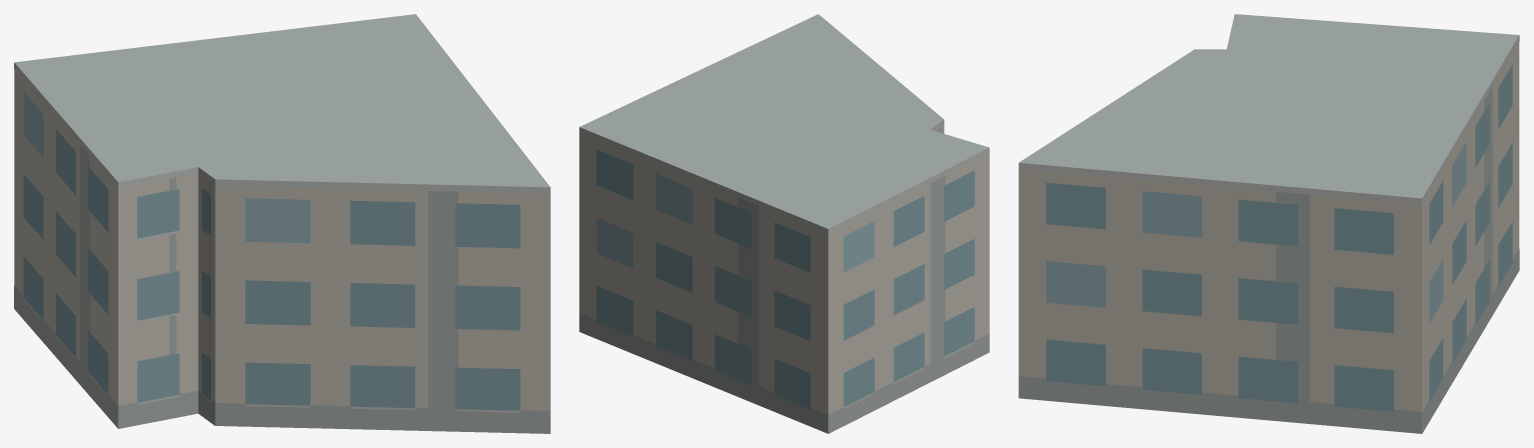
File: survey-upis-32994948.glb
3 views of the same model, side by side, from view 1: azimuth 30°, elevation 25°; view 2: azimuth 150°, elevation 25°; view 3: azimuth 270°, elevation 25° (orthographic). The views are drawn at different scales.
Visible parts, largest first — view 1: survey-upis-32994948.tmp; view 2: survey-upis-32994948.tmp; view 3: survey-upis-32994948.tmp.
Part boxes in pixels (left/top/right/bottom): survey-upis-32994948.tmp: left=14, top=14, right=550, bottom=433; survey-upis-32994948.tmp: left=579, top=14, right=989, bottom=433; survey-upis-32994948.tmp: left=1018, top=14, right=1519, bottom=433.
Size of the model in its own units: 15.38 by 9.15 by 17.65.
